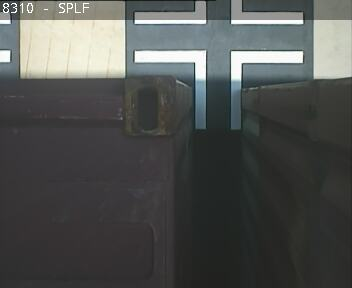groundmarker_1: (133, 49, 303, 129)
